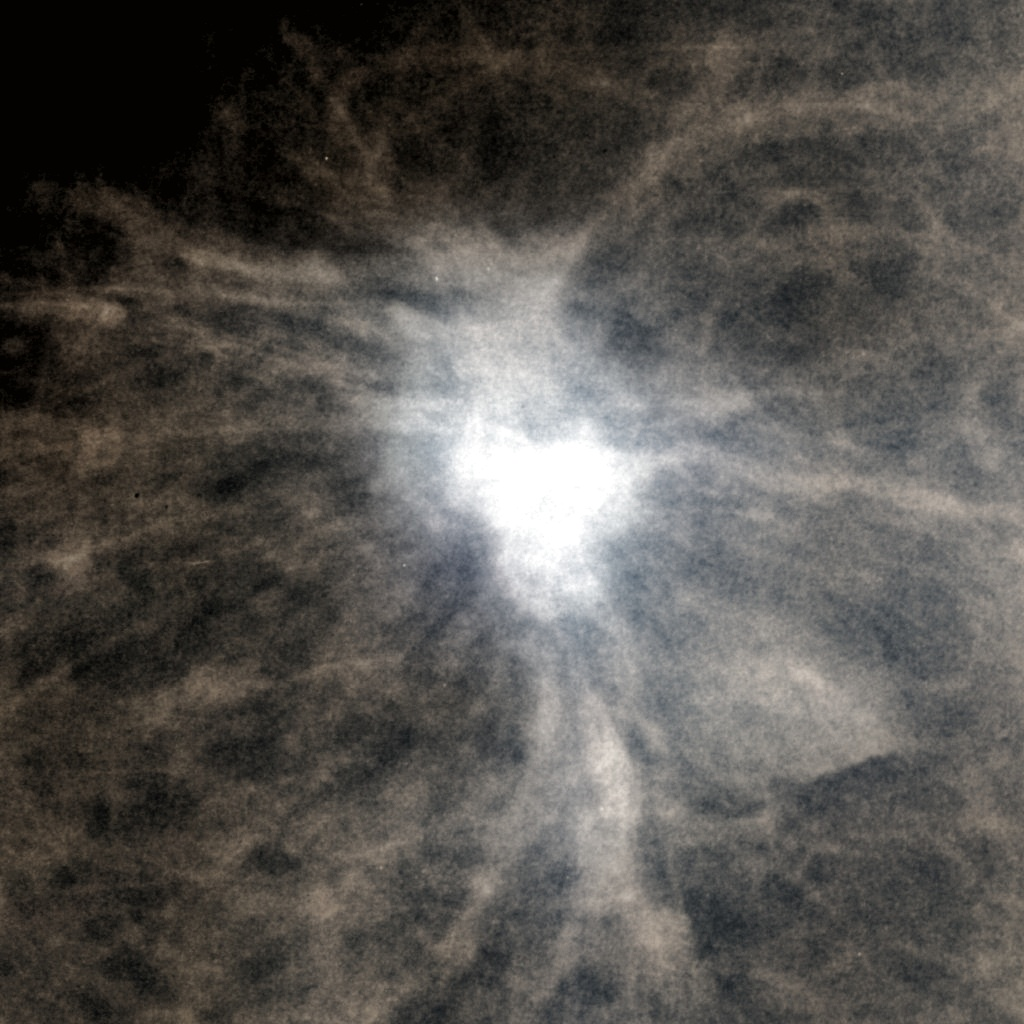tumor: (301, 313, 723, 711)
